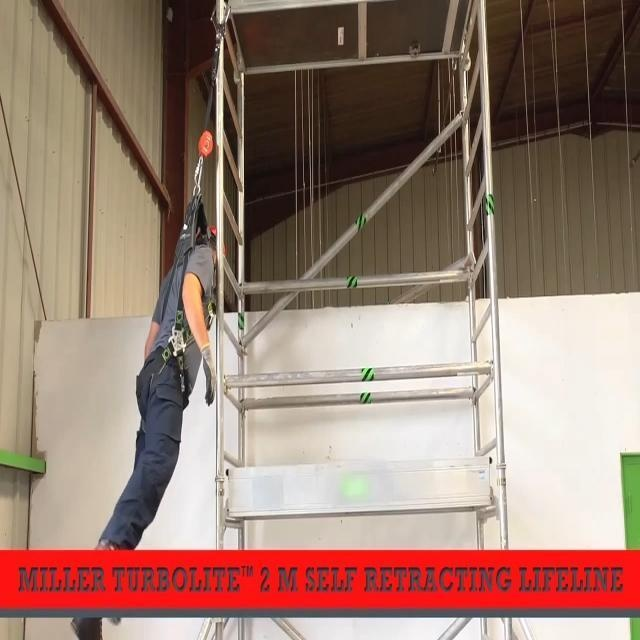Arnes_seguridad: (133, 135, 222, 440)
